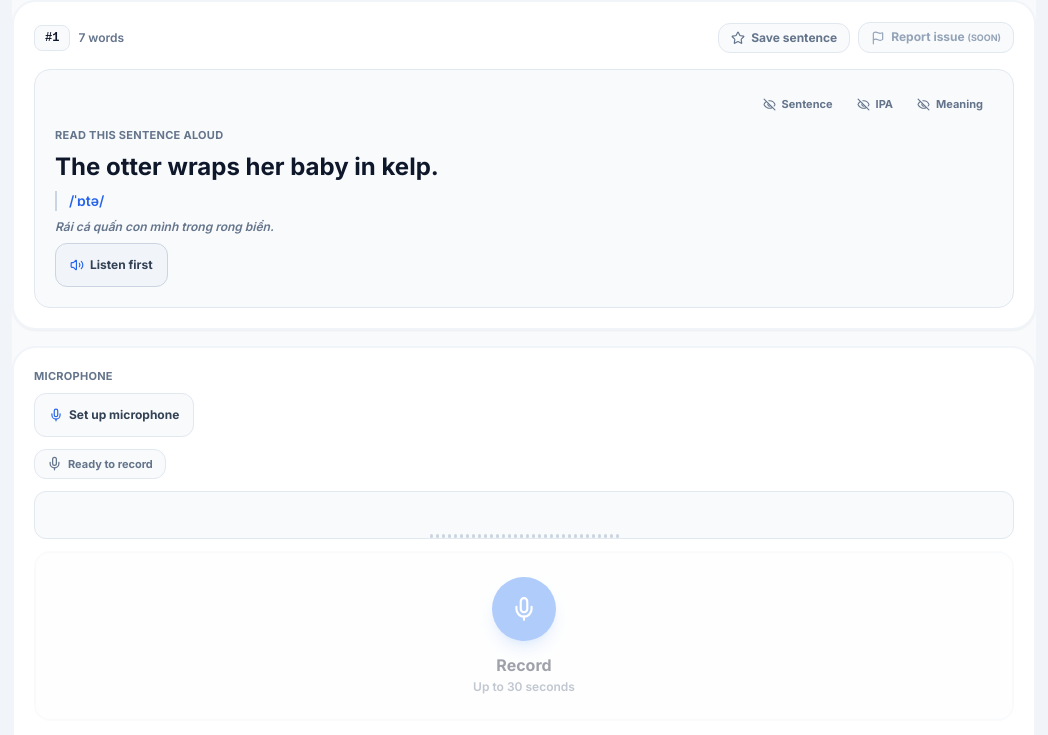
ShadowingModePanel — record, stop, replay, retry › offers playback of the recording after Stop
Step 1. Click the button "Set up microphone" → (114, 414), box [34,392,194,436]
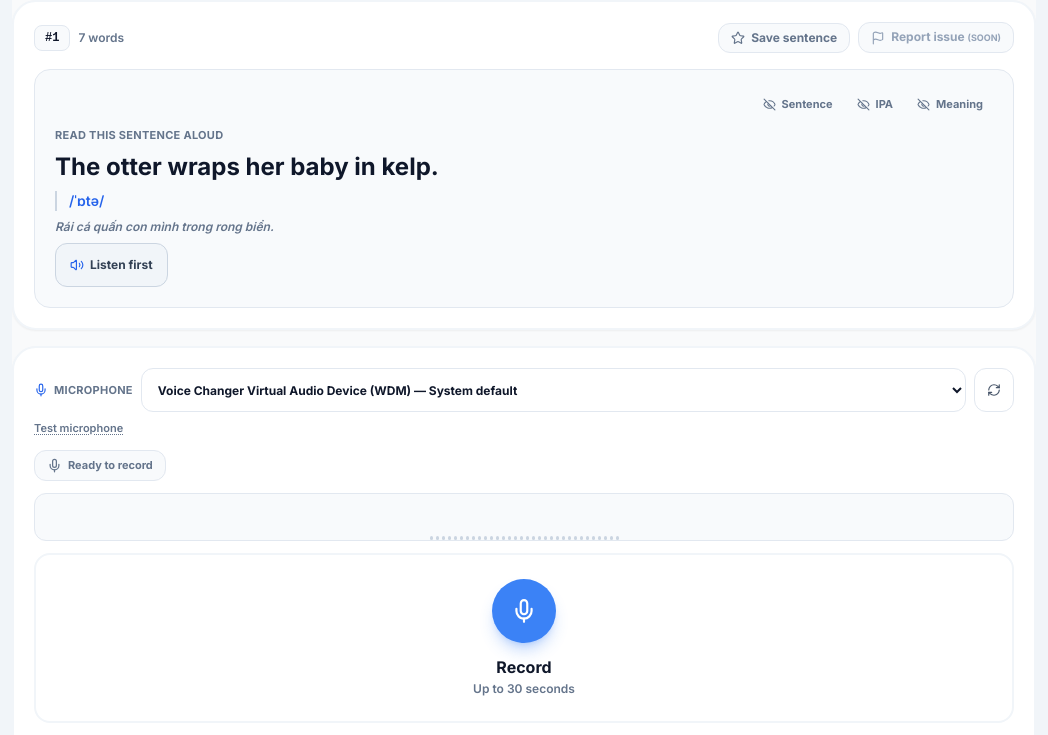
Step 2. Click the button "Record Up to 30 seconds" → (524, 638), box [34,552,1014,722]
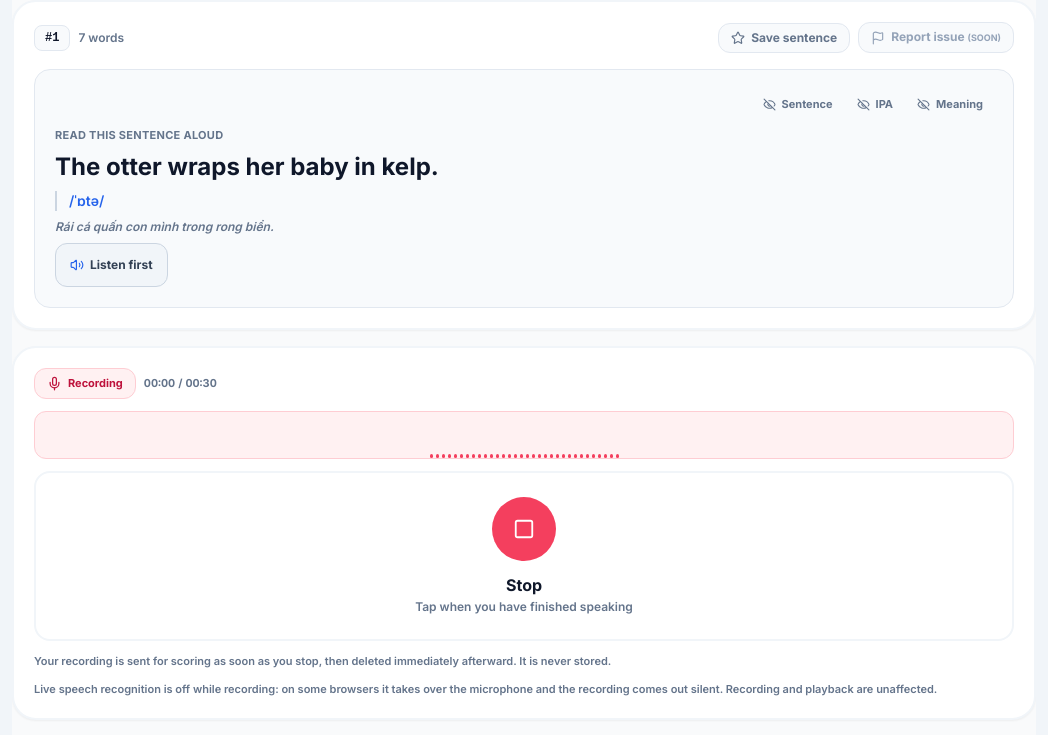
Step 3. Click the button "Stop Tap when you have finished speaking" → (524, 556), box [34,470,1014,640]
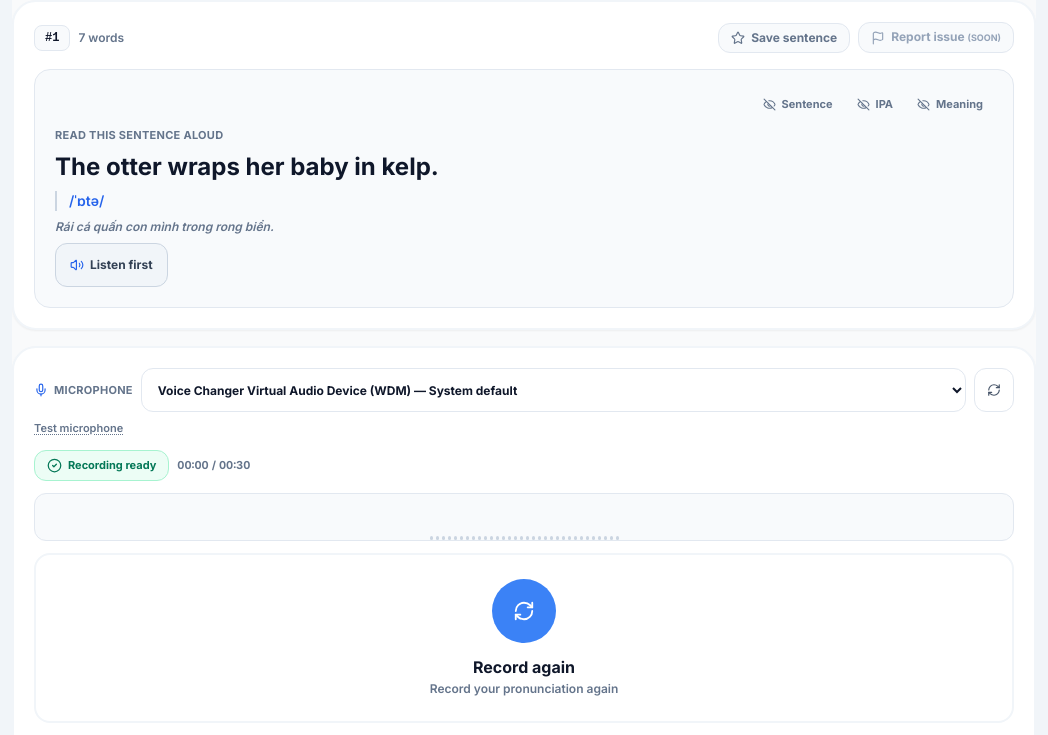
Check: the button "Record again Record your pronunciation again" is shown, box [34,552,1014,722]
